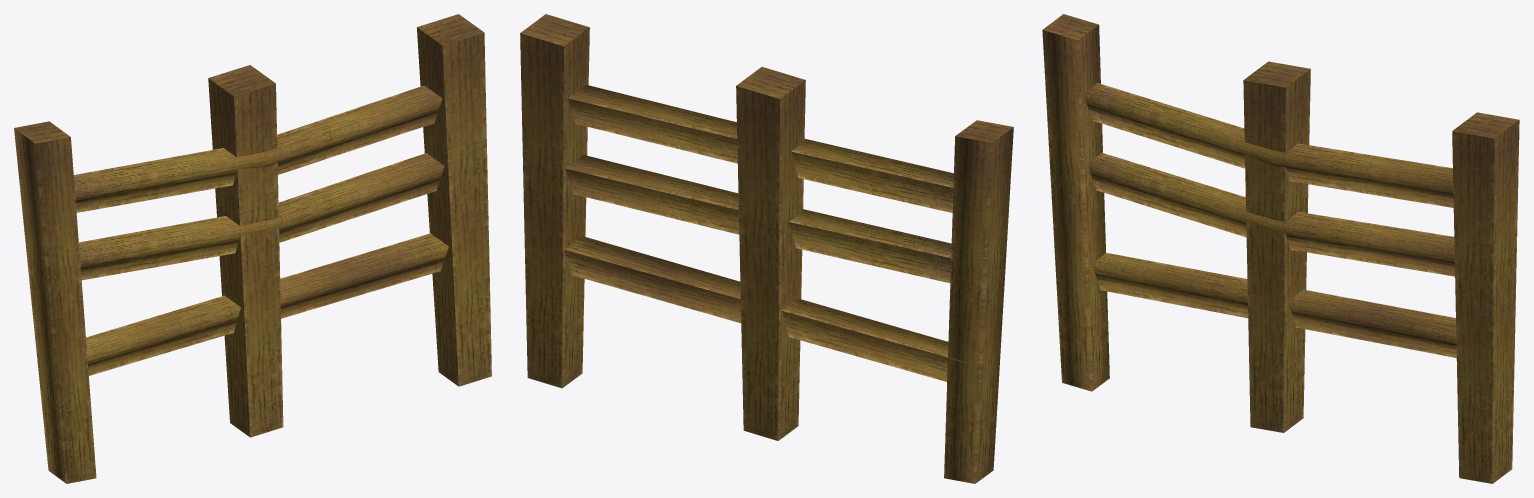
File: daoju_01.fbx
3 views of the same model, side by side, from view 1: azimuth 30°, elevation 25°; view 2: azimuth 150°, elevation 25°; view 3: azimuth 330°, elevation 25° (orthographic). The views are drawn at different scales.
Visible parts, largest first — view 1: polySurface2226; view 2: polySurface2226; view 3: polySurface2226.
Part boxes in pixels (x1=…): polySurface2226: x1=14, y1=14, x2=491, y2=483; polySurface2226: x1=520, y1=14, x2=1013, y2=483; polySurface2226: x1=1042, y1=14, x2=1519, y2=483.
Size of the model in its own units: 1.21 by 0.8756 by 0.1501.
